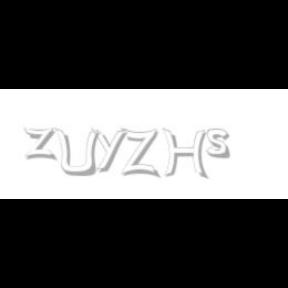H: (162, 128, 208, 180)
U: (54, 128, 98, 178)
Z: (122, 128, 158, 178)
s: (206, 128, 234, 160)
y: (91, 128, 131, 172)
z: (23, 128, 59, 160)
